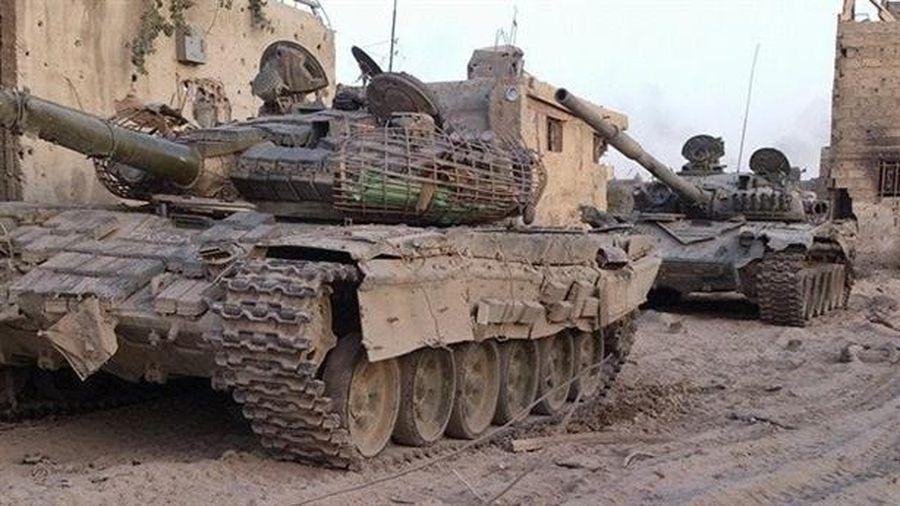tank: (0, 38, 665, 476), (553, 86, 857, 328)
